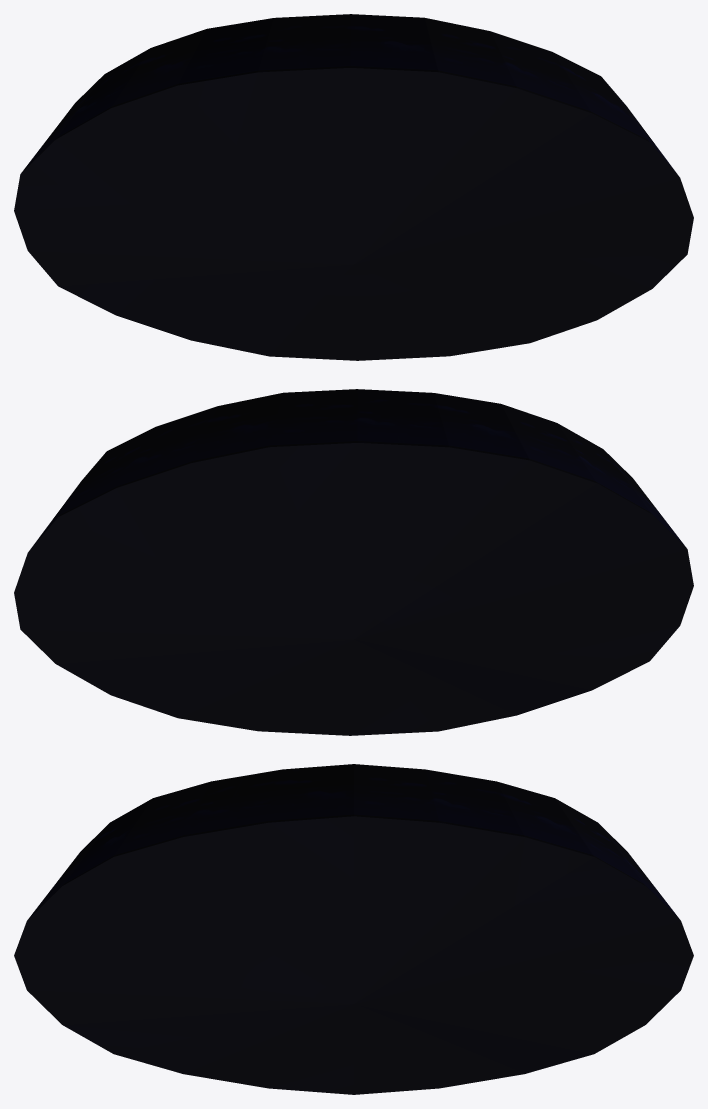
The model's file is vrcorn.glb.
3 renders of one model, top to bottom at view 1: azimuth 30°, elevation 25°; view 2: azimuth 150°, elevation 25°; view 3: azimuth 270°, elevation 25°, orthographic. The views are drawn at different scales.
Visible parts, largest first — view 1: polygon0; view 2: polygon0; view 3: polygon0.
Boxes of the visible parts, <box> form: polygon0: <box>14,14,693,360</box>; polygon0: <box>14,389,693,735</box>; polygon0: <box>14,764,693,1094</box>.
Size of the model in its own units: 2757 by 713 by 2844.
1 material, 1 textured.
